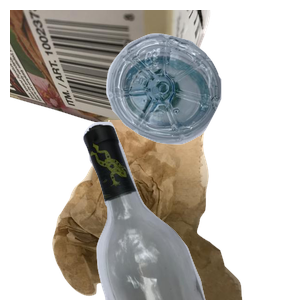cardboard: (10, 10, 213, 146)
glass: (81, 120, 300, 300)
plastic: (104, 31, 300, 168)
trash: (50, 120, 285, 300)
